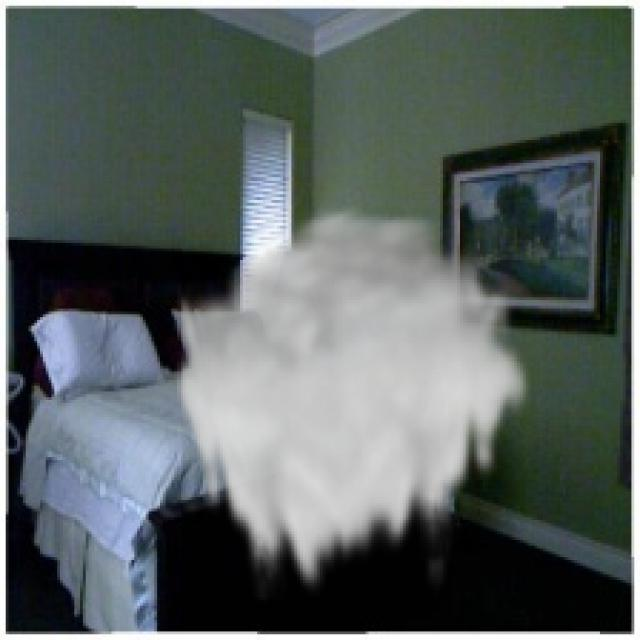smoke: (172, 200, 534, 603)
